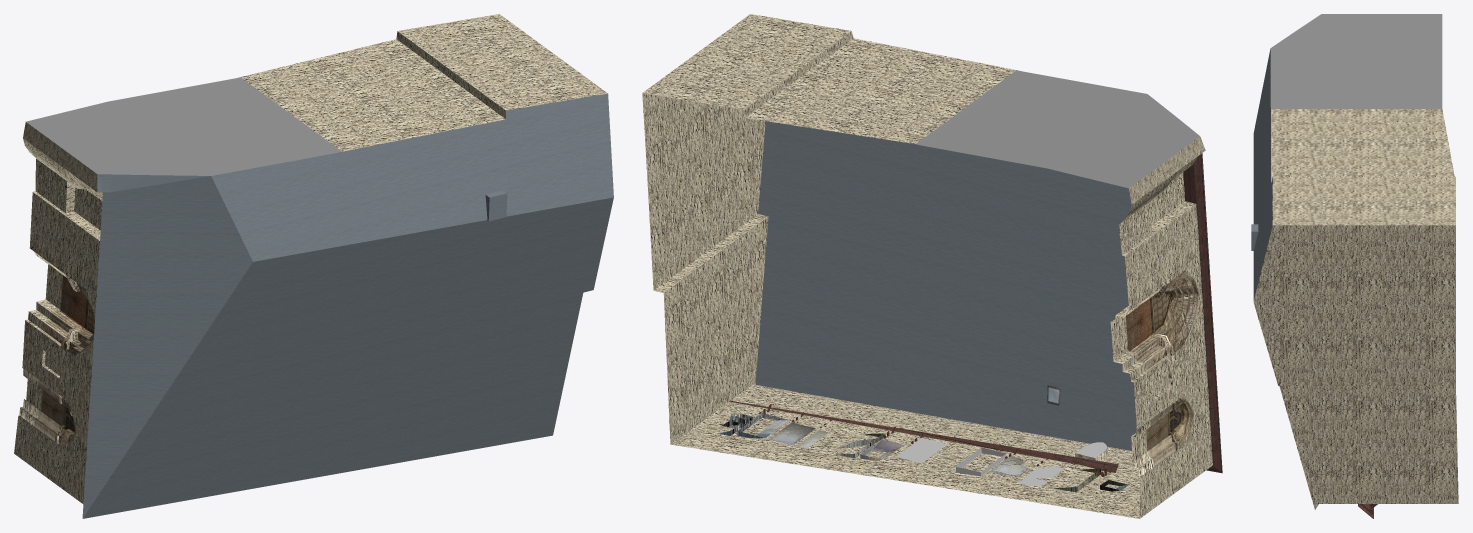
The model's file is Myyrivahe_37-origo.obj.
The picture shows the model from 3 angles, left to right: view 1: azimuth 30°, elevation 25°; view 2: azimuth 150°, elevation 25°; view 3: azimuth 270°, elevation 25°; orthographic projection. The views are drawn at different scales.
Parts seen in each view (by area): view 1: Myyrivahe_37; view 2: Myyrivahe_37; view 3: Myyrivahe_37.
Part boxes in pixels (x1,y1,x2,y2): Myyrivahe_37: [14, 14, 613, 518]; Myyrivahe_37: [642, 14, 1222, 518]; Myyrivahe_37: [1251, 14, 1458, 518].
Bounding box in the file's own units: 33.38 × 24 × 14.21.
